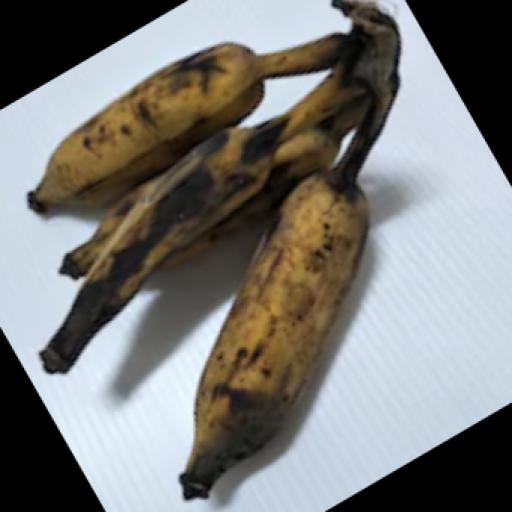banana-overripe: (0, 0, 437, 512)
